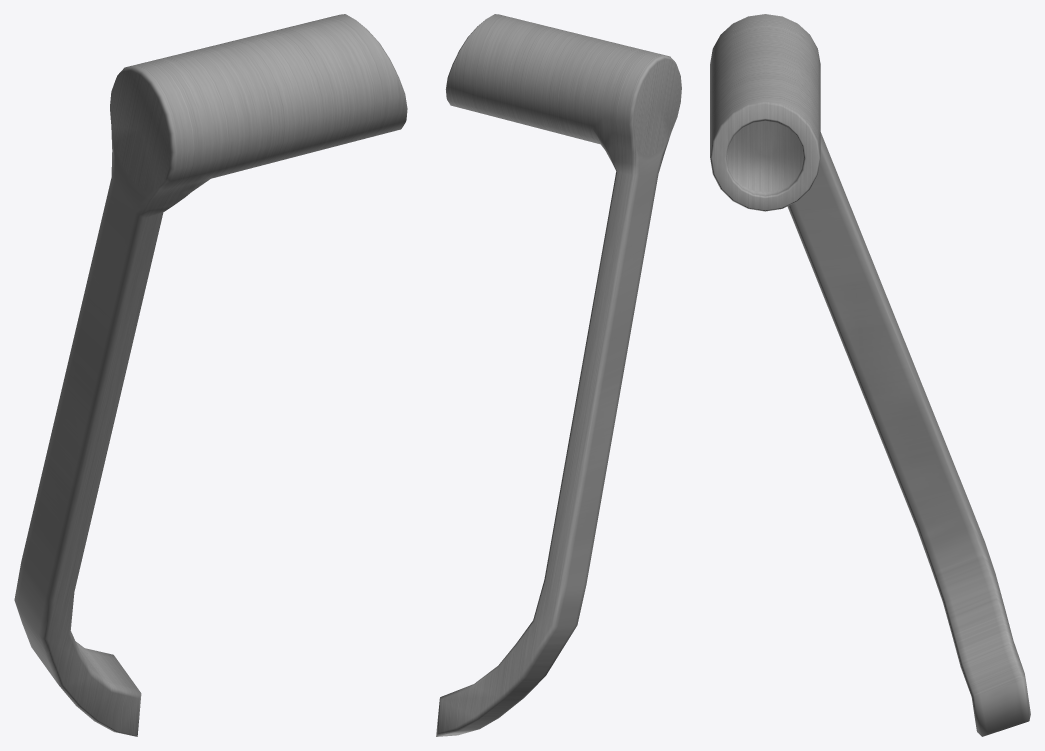
The model's file is arm.fbx.
3 renders of one model, left to right at view 1: azimuth 30°, elevation 25°; view 2: azimuth 150°, elevation 25°; view 3: azimuth 270°, elevation 25°, orthographic. The views are drawn at different scales.
Parts seen in each view (by area): view 1: BaseArm1; view 2: BaseArm1; view 3: BaseArm1.
Part boxes in pixels (left/top/right/bottom): BaseArm1: left=14, top=14, right=407, bottom=736; BaseArm1: left=436, top=14, right=681, bottom=736; BaseArm1: left=710, top=14, right=1030, bottom=736.
Size of the model in its own units: 31.12 by 94.9 by 41.02.
